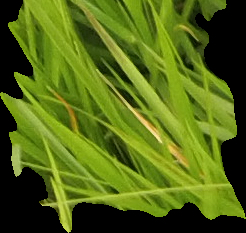grass: (1, 1, 245, 232)
